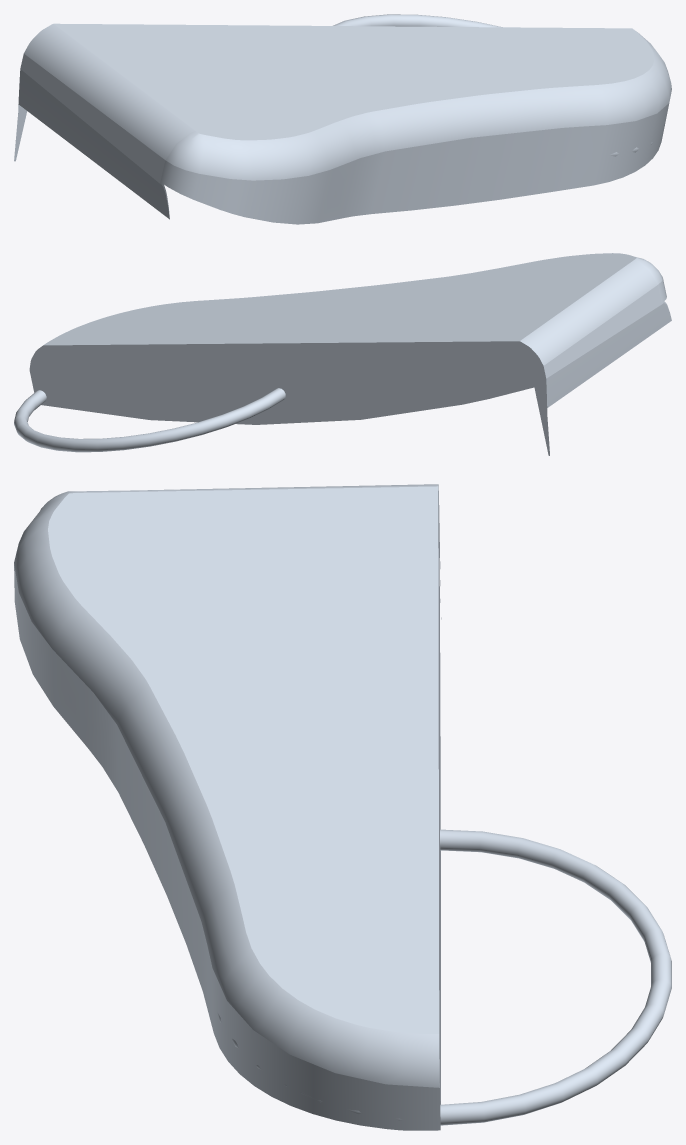
Rendered from RB-022_viewer.glb.
3 views of the same model, one above another, from view 1: azimuth 30°, elevation 25°; view 2: azimuth 150°, elevation 25°; view 3: azimuth 270°, elevation 25° (orthographic). The views are drawn at different scales.
Visible parts, largest first — view 1: basebody_imported1; view 2: basebody_imported1; view 3: basebody_imported1.
Part boxes in pixels (x1=…): basebody_imported1: x1=14, y1=14, x2=671, y2=224; basebody_imported1: x1=14, y1=253, x2=671, y2=455; basebody_imported1: x1=14, y1=484, x2=671, y2=1130.
Bounding box in the file's own units: 0.0221 × 0.00731 × 0.0156.
